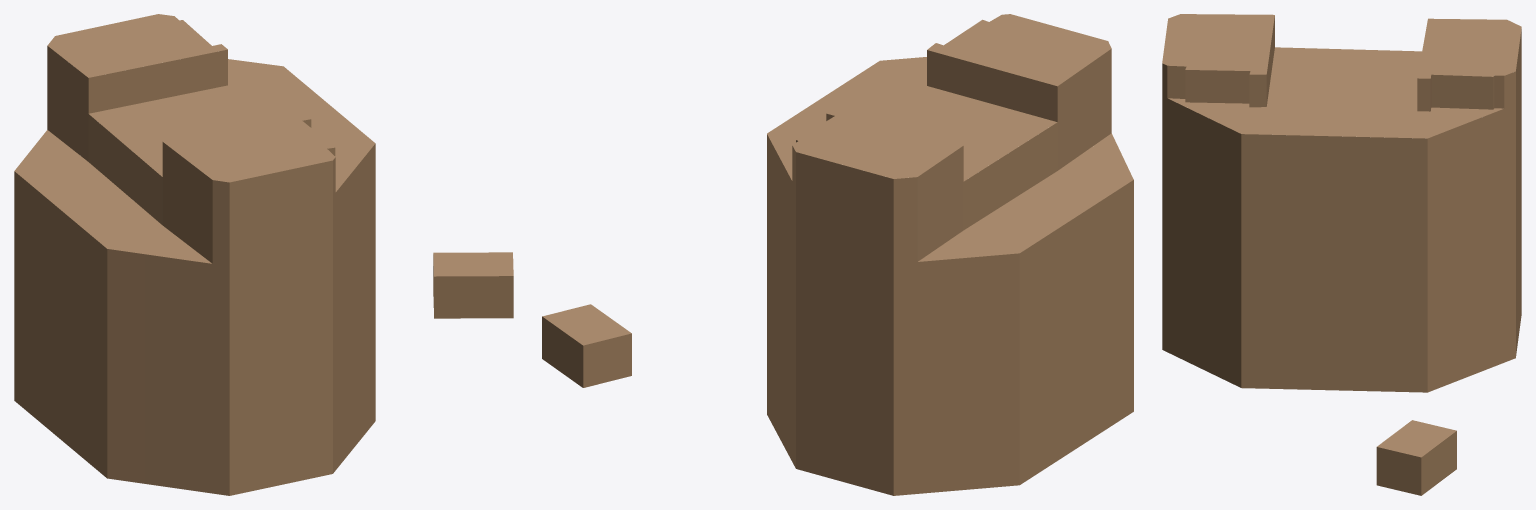
File: tile-12_-10.glb
3 views of the same model, side by side, from view 1: azimuth 30°, elevation 25°; view 2: azimuth 150°, elevation 25°; view 3: azimuth 270°, elevation 25° (orthographic). The views are drawn at different scales.
Visible parts, largest first — view 1: wall, roof; view 2: wall, roof; view 3: wall, roof.
Boxes of the visible parts, x1,y1,x2,y2 form: wall: [14, 46, 513, 495]; roof: [14, 14, 513, 276]; wall: [542, 49, 1133, 495]; roof: [542, 14, 1133, 345]; wall: [1162, 16, 1521, 495]; roof: [1162, 14, 1521, 457].
Bounding box in the file's own units: 63.6 × 38.81 × 43.7.
